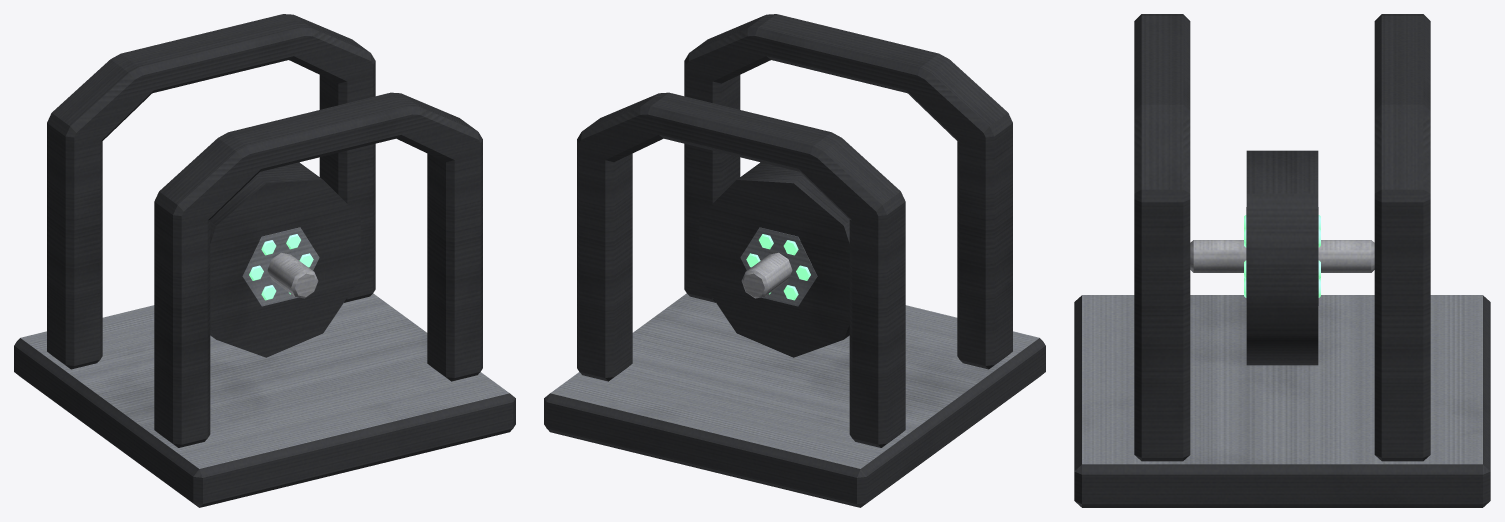
File: R4X_MovementDurabilityBooster_LOD1.glb
3 renders of one model, left to right at view 1: azimuth 30°, elevation 25°; view 2: azimuth 150°, elevation 25°; view 3: azimuth 270°, elevation 25°, orthographic. The views are drawn at different scales.
Visible parts, largest first — view 1: R4X_MovementDurabilityBooster_LOD1; view 2: R4X_MovementDurabilityBooster_LOD1; view 3: R4X_MovementDurabilityBooster_LOD1.
Boxes of the visible parts, box(x1,y1,x2,y2) form: R4X_MovementDurabilityBooster_LOD1: box(14, 14, 515, 507); R4X_MovementDurabilityBooster_LOD1: box(544, 14, 1045, 507); R4X_MovementDurabilityBooster_LOD1: box(1074, 14, 1490, 507).
Bounding box in the file's own units: 0.52 × 0.5 × 0.52.
4 materials, 3 textured.
